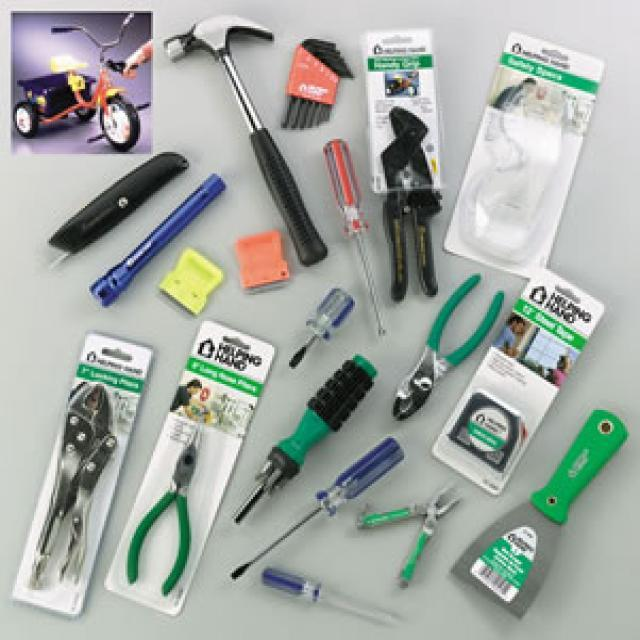hammer: (154, 6, 340, 272)
pliers: (27, 379, 118, 592), (388, 268, 509, 427), (120, 421, 214, 596), (360, 475, 462, 588)
screwdriver: (222, 346, 378, 538), (226, 430, 406, 591), (318, 133, 400, 353), (254, 567, 406, 638), (280, 282, 355, 377)
